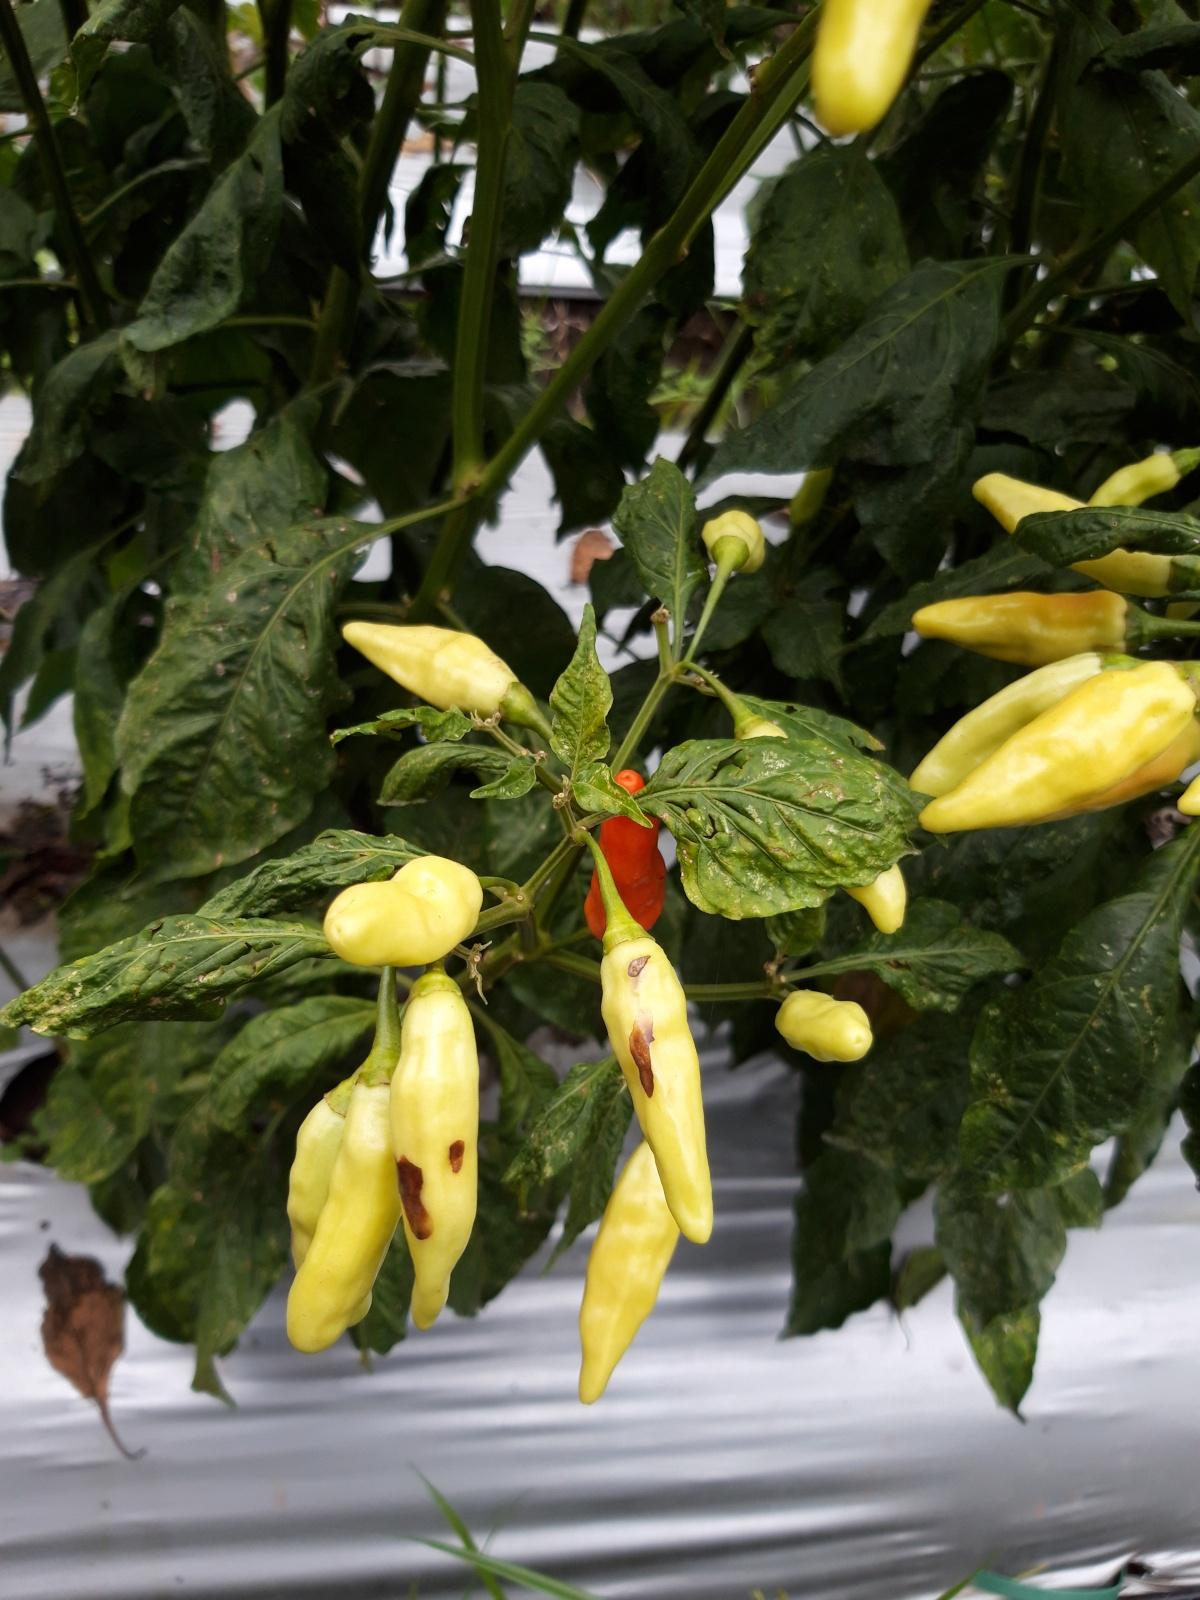cabai_normal: (919, 659, 1200, 835), (287, 1044, 405, 1354), (971, 471, 1197, 596), (577, 1138, 679, 1402), (342, 621, 536, 727), (910, 591, 1152, 669), (324, 855, 484, 968), (774, 989, 872, 1062)
lalat_buah: (600, 921, 716, 1245), (388, 974, 479, 1329)
